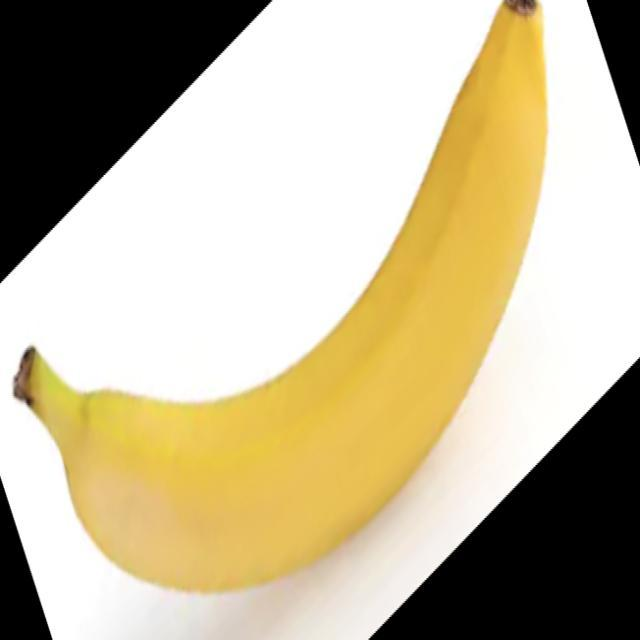Banana: (11, 0, 549, 594)
